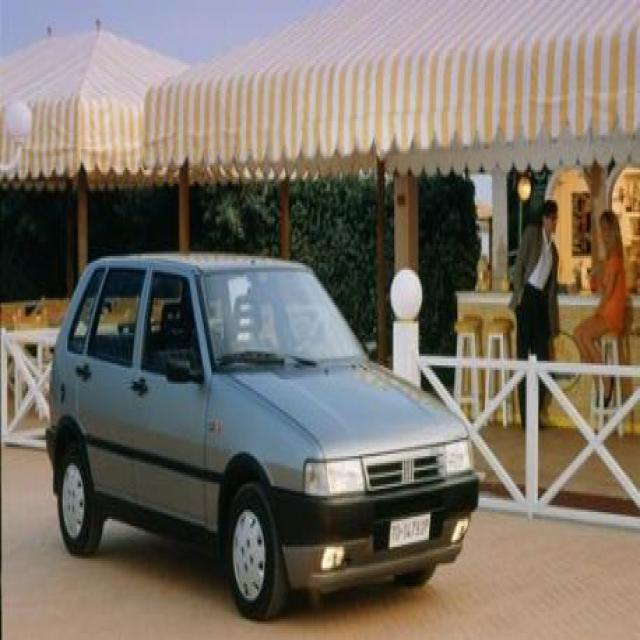yolov7-seg-car: (45, 252, 479, 620)
